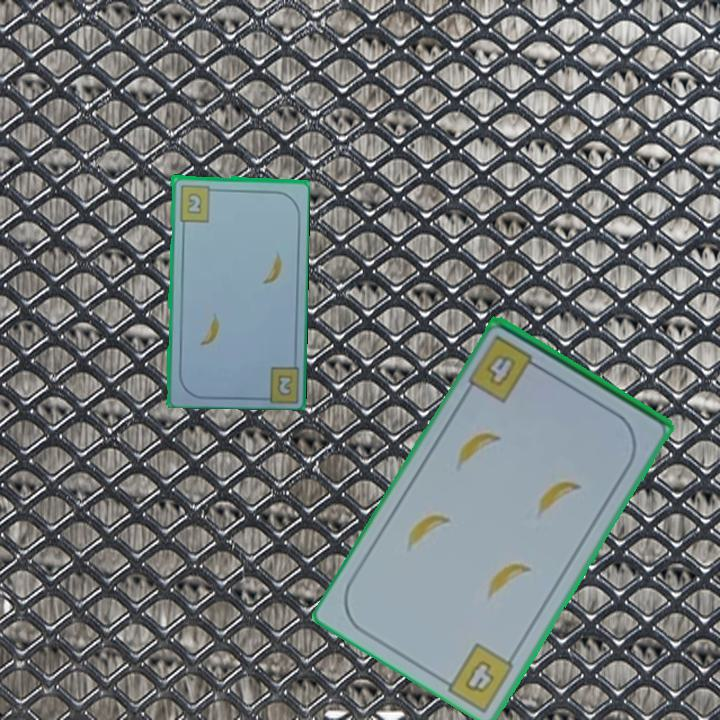2b: (175, 181, 218, 224), (275, 373, 293, 396)
4b: (468, 332, 546, 406), (461, 657, 498, 697)
